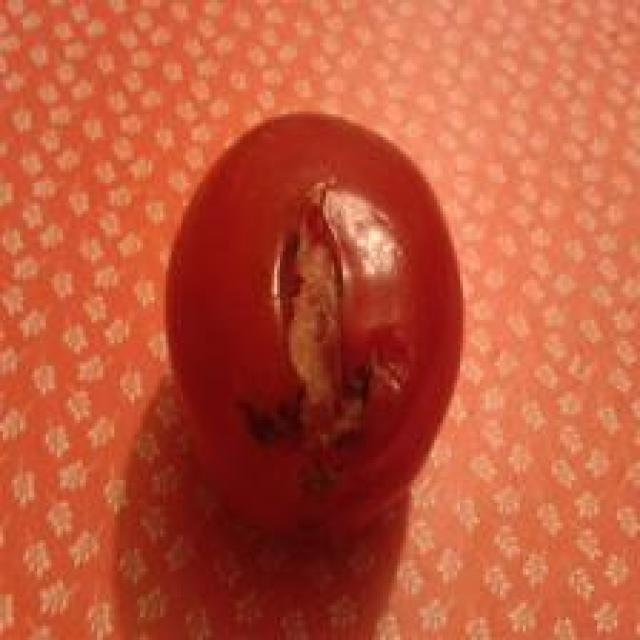overripe tomato: (137, 84, 512, 556)
